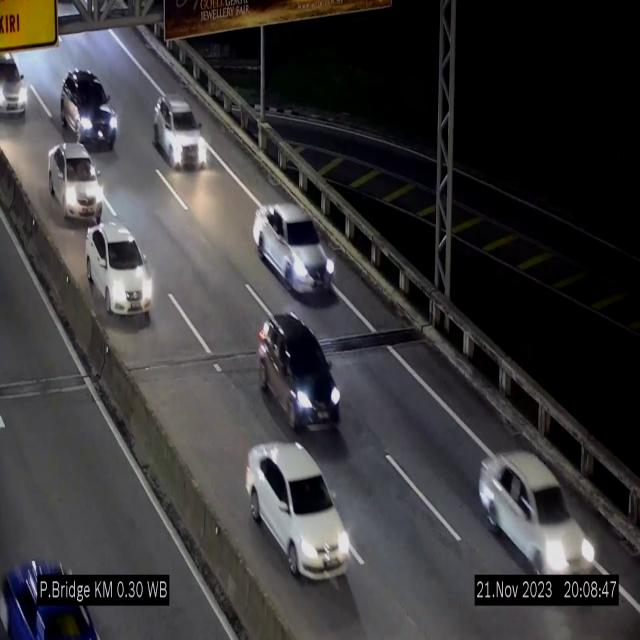Car: (480, 446, 596, 576), (245, 442, 353, 578), (255, 311, 347, 443), (254, 204, 336, 298), (89, 222, 155, 334), (60, 71, 118, 149), (48, 143, 104, 219), (153, 94, 207, 168)
